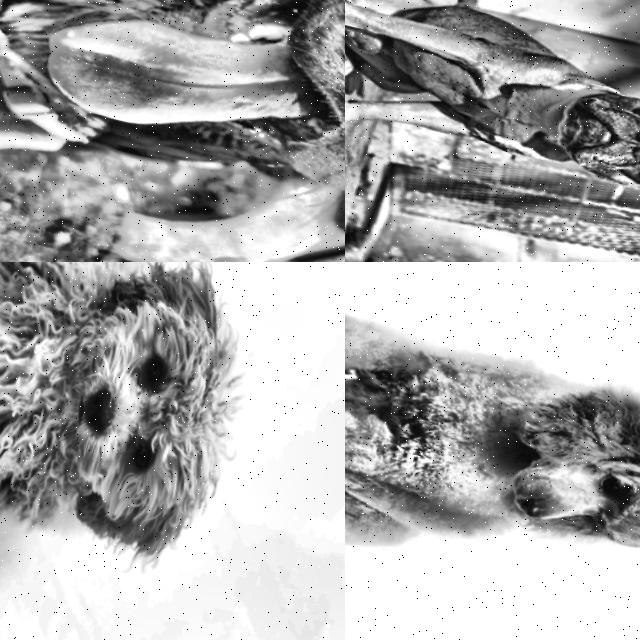bulldog: (507, 48, 640, 242)
poodle: (0, 262, 289, 591), (455, 339, 640, 603)
rottweiler: (0, 0, 345, 262)
